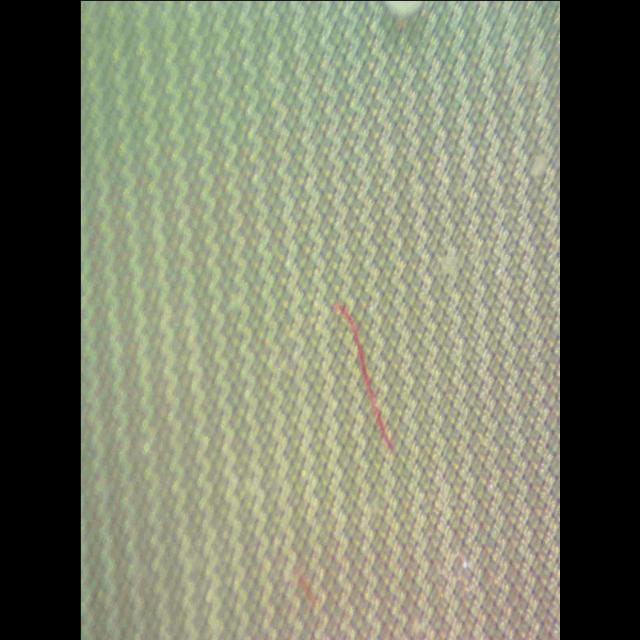Fibre: (326, 297, 400, 461)
